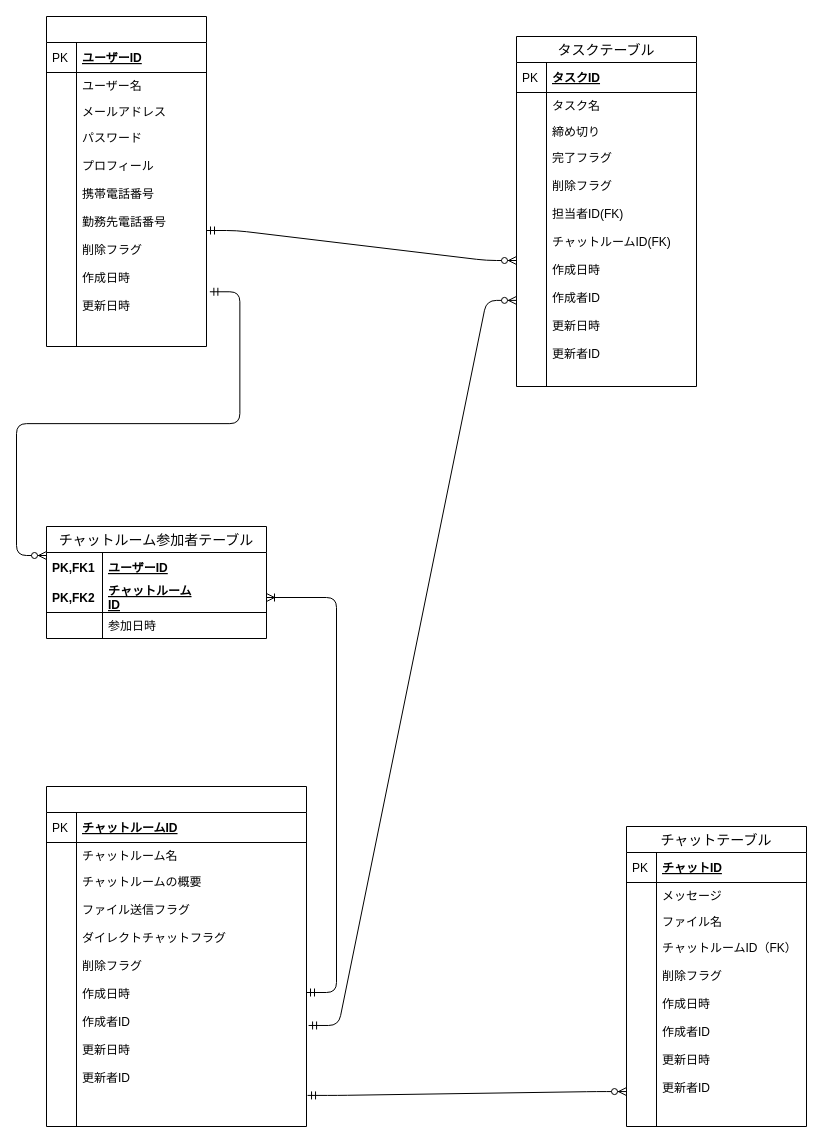
The diagram is 823 pixels wide and 1143 high, and some of its shapes have lost their labels. The box of each missing label's shape, as (x1, y1, x2, y2) in pixels:
チャットルームテーブル: (46, 786, 306, 1126)
ユーザーテーブル: (46, 16, 206, 346)
